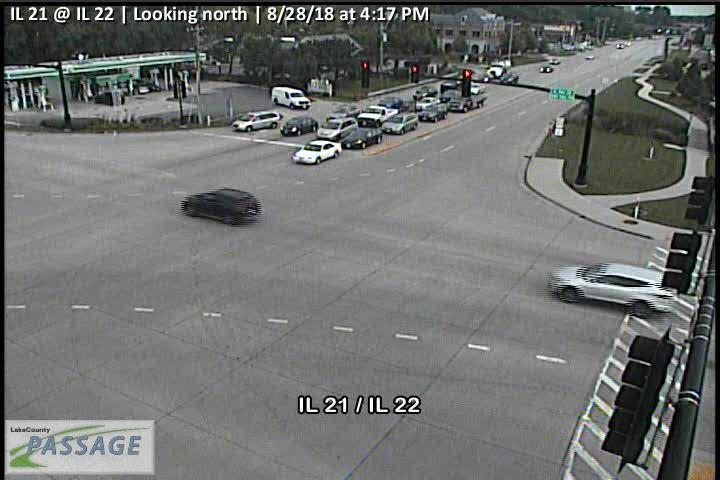SUV: (547, 262, 674, 317), (182, 188, 262, 224), (316, 117, 358, 141), (232, 111, 279, 132), (271, 86, 311, 109), (325, 104, 360, 121), (418, 103, 449, 122)
Sedan: (291, 139, 343, 165), (341, 127, 383, 149), (279, 115, 319, 137), (381, 112, 419, 135), (413, 86, 438, 100), (377, 96, 403, 108)
Truck: (441, 89, 488, 112), (358, 105, 399, 126)
